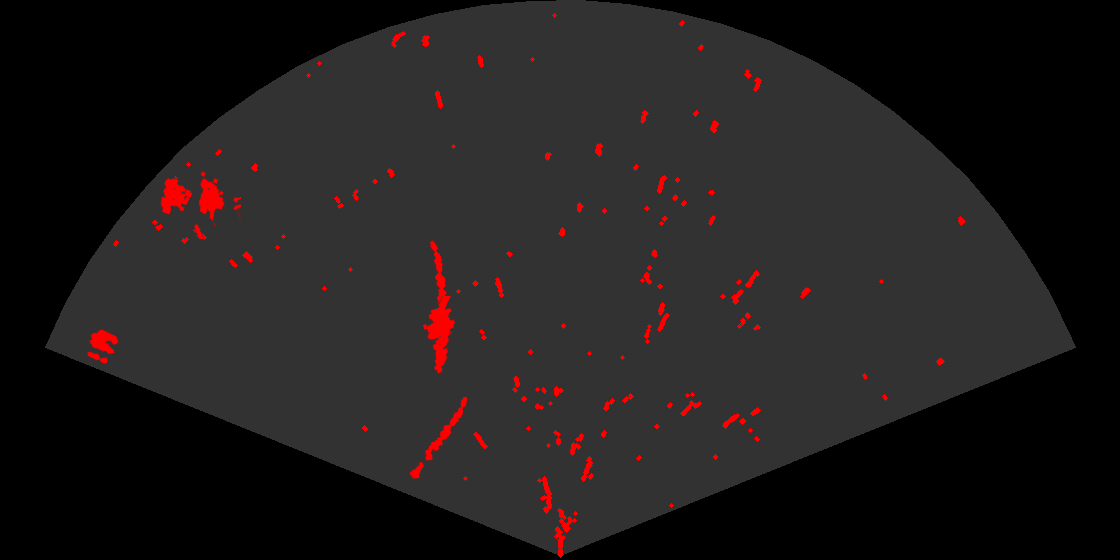ball: (86, 328, 120, 365)
cage: (159, 170, 241, 239)
chain: (408, 395, 469, 480), (428, 239, 454, 338)
frogman: (421, 296, 457, 375)
